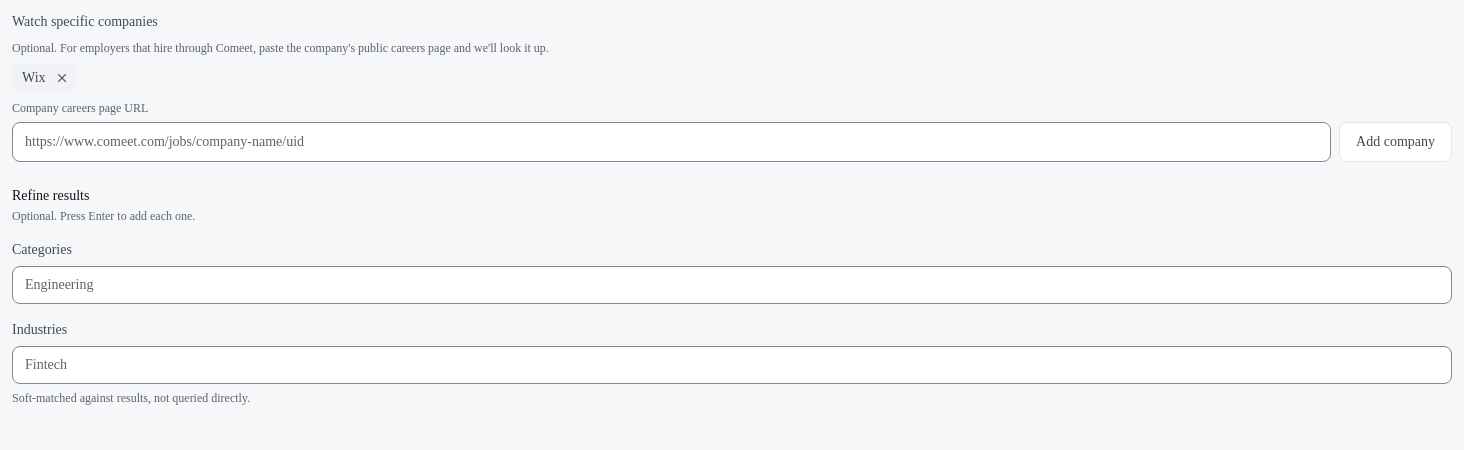
Test: StepSources › refuses a company that is already watched
The width and height of the screenshot is (1464, 450).
In the field labelled "Company careers page URL": x=672, y=142 [12,122,1331,162], type "https://www.comeet.com/jobs/wix/u1"
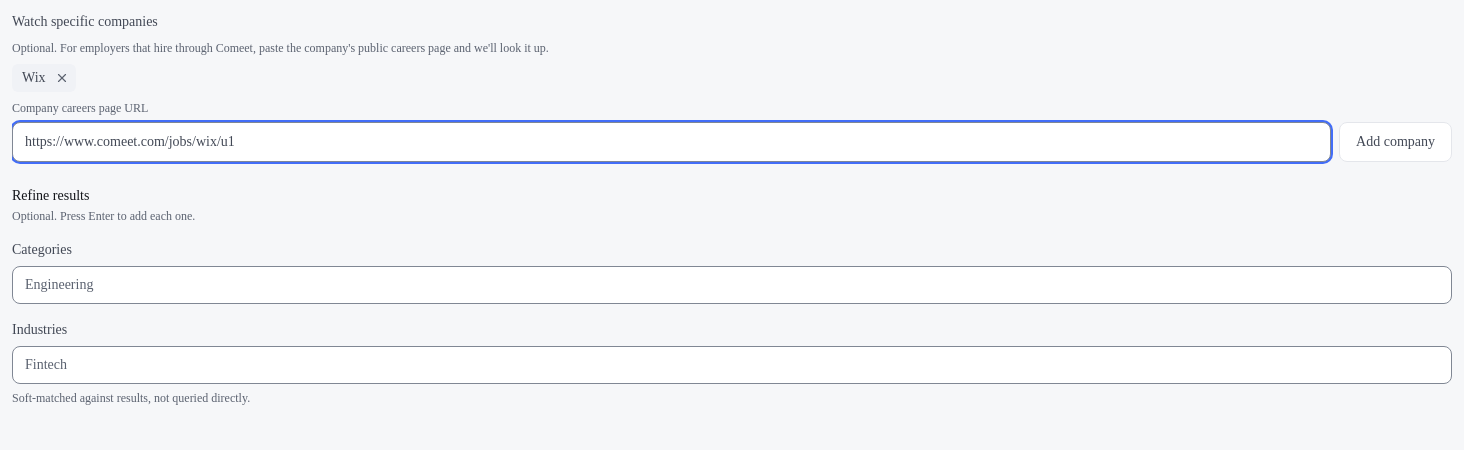
Click the button "Add company": x=1396, y=142 [1339,122,1452,162]
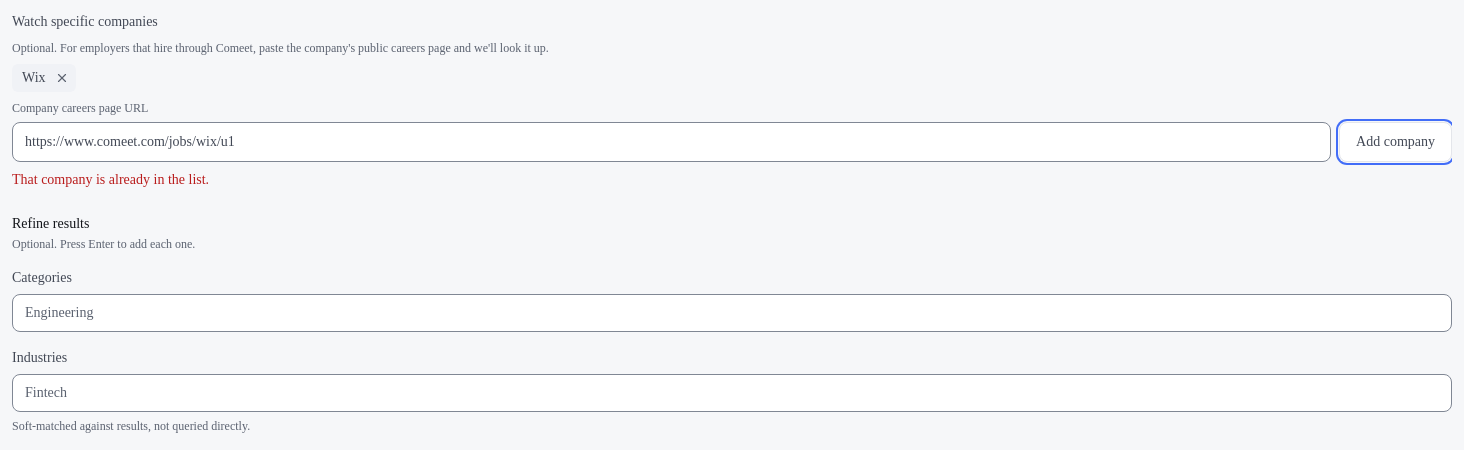
Check: the message reads "That company is already in the list.", box [12,172,209,187]
